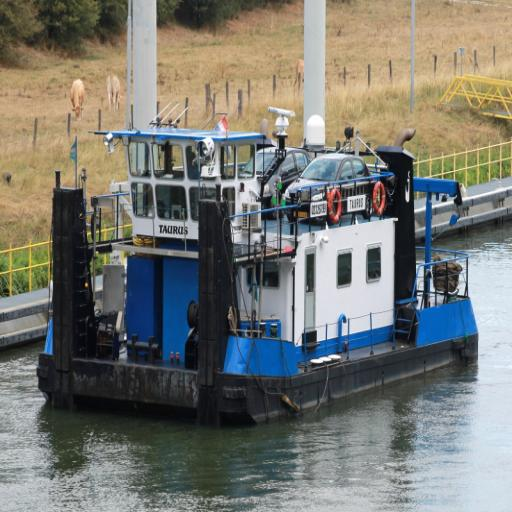tugboat: (34, 100, 482, 435)
